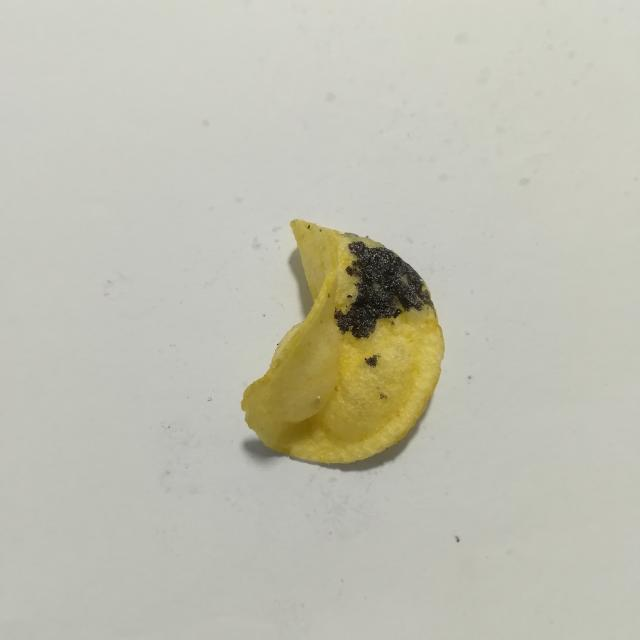chip: (241, 219, 444, 463)
damaged: (335, 242, 433, 338), (365, 355, 378, 367), (346, 294, 352, 298), (307, 224, 310, 229)
semi-damaged: (379, 392, 387, 399), (390, 321, 396, 326)
